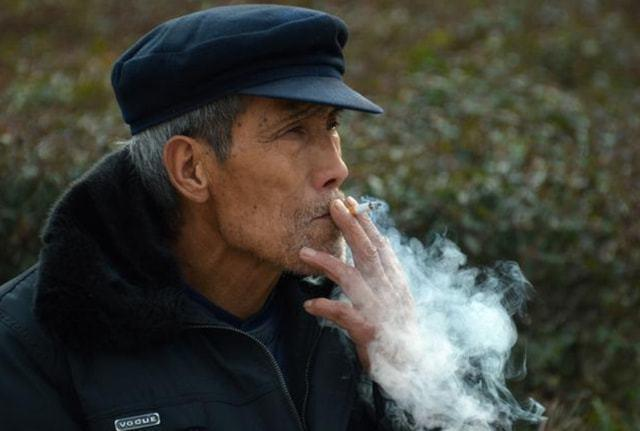Smoking: (330, 201, 382, 221)
